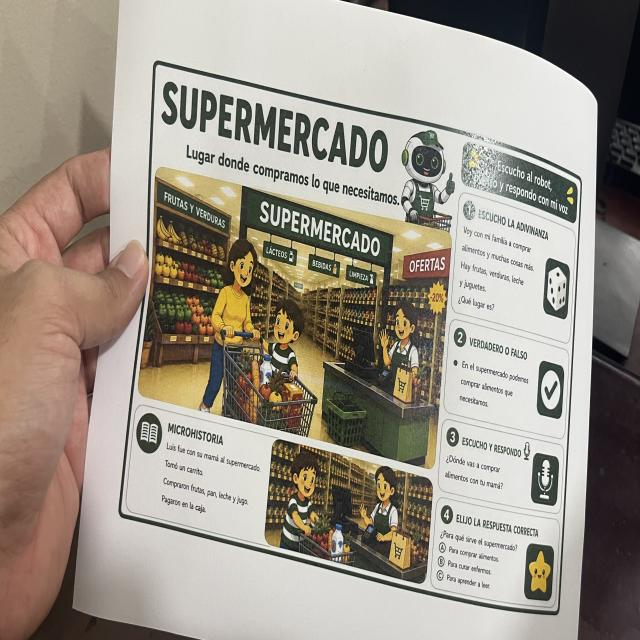supermercado: (115, 54, 586, 620)
